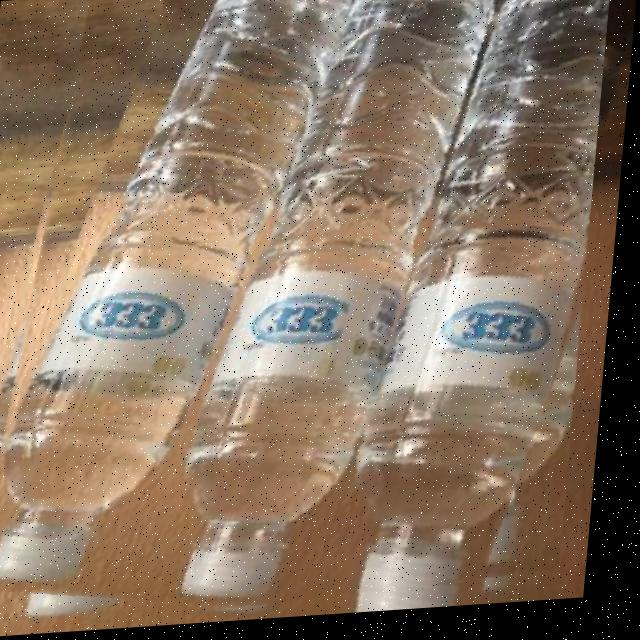plasticbottle: (0, 0, 612, 639)
